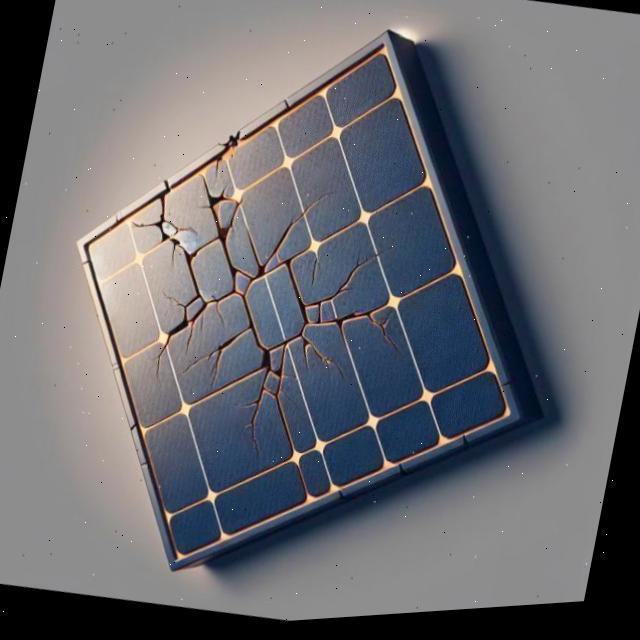Anomaly Solar Panel: (44, 49, 512, 565)
Structural Damage: (174, 280, 293, 412), (302, 240, 395, 328), (255, 189, 336, 270), (217, 368, 290, 457), (322, 307, 401, 379), (266, 250, 308, 350), (287, 339, 349, 398), (161, 294, 209, 343), (129, 196, 177, 241), (210, 248, 250, 293), (206, 198, 238, 252), (206, 292, 244, 335), (152, 220, 196, 255), (144, 336, 170, 390), (257, 344, 287, 382), (241, 229, 260, 271), (158, 294, 184, 315), (248, 268, 269, 291), (181, 328, 195, 358), (307, 261, 318, 292), (183, 254, 196, 267)
